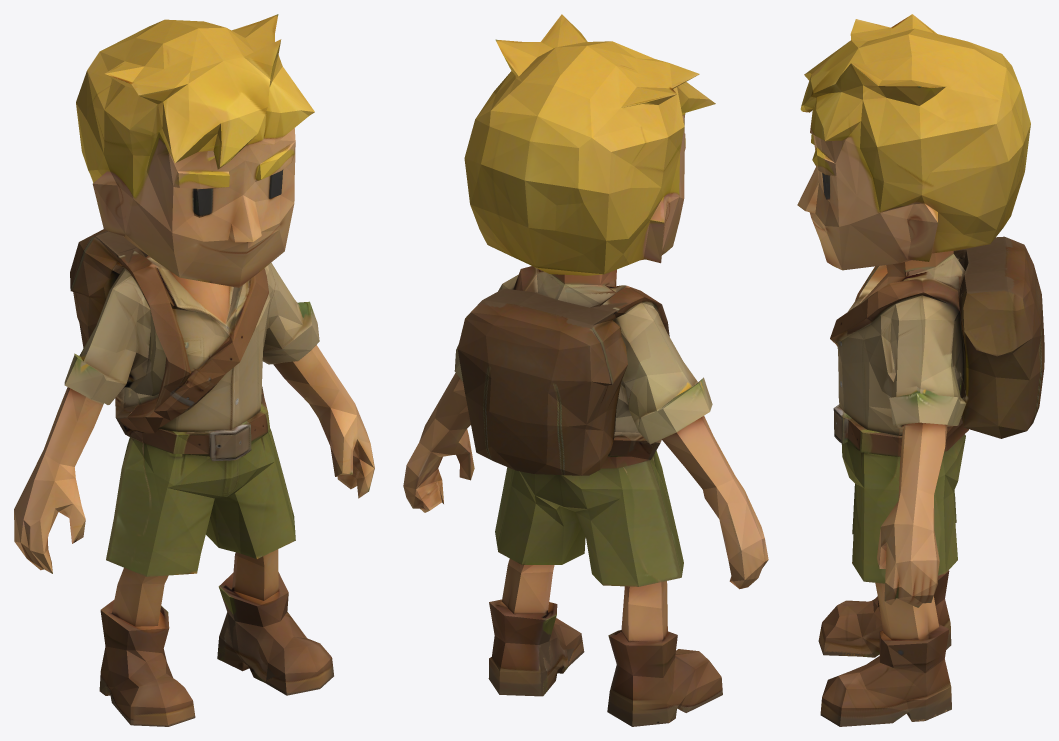
File: Explorer_Boy_0617180228_texture.fbx
3 renders of one model, left to right at view 1: azimuth 30°, elevation 25°; view 2: azimuth 150°, elevation 25°; view 3: azimuth 270°, elevation 25°, orthographic.
Parts seen in each view (by area): view 1: temp; view 2: temp; view 3: temp.
Part boxes in pixels (<box>): temp: <box>14,14,374,726</box>; temp: <box>403,14,768,726</box>; temp: <box>797,14,1044,726</box>.
Bounding box in the file's own units: 113 × 200 × 69.8.
1 material, 1 textured.
